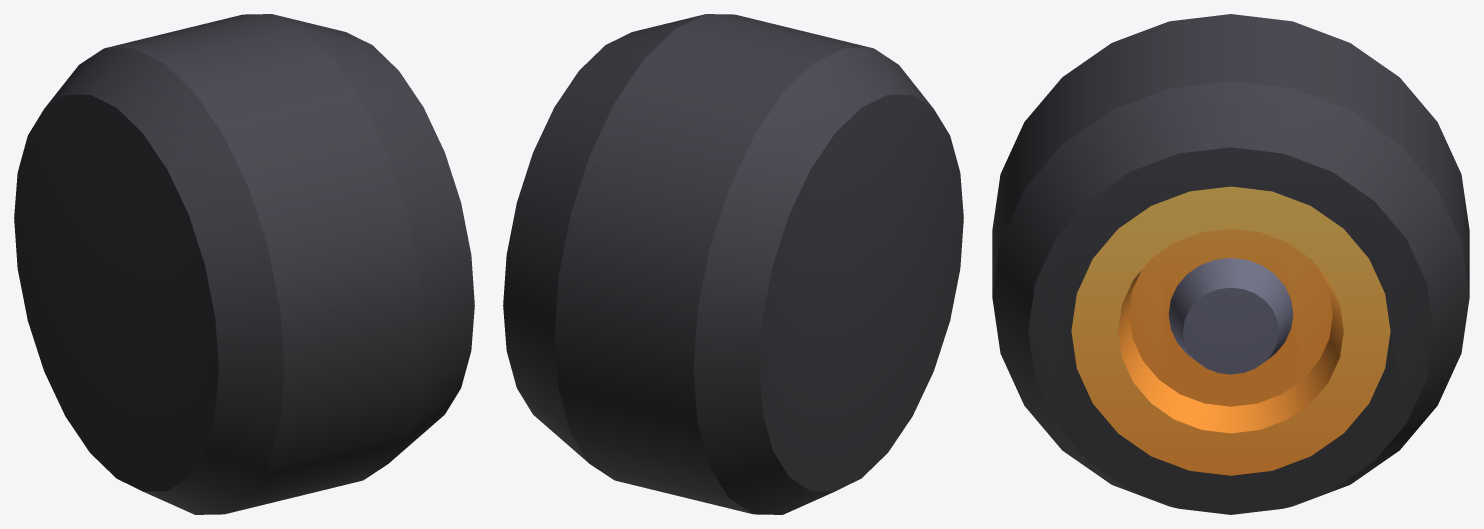
Rendered from wheel-tractor-back.fbx.
3 views of the same model, side by side, from view 1: azimuth 30°, elevation 25°; view 2: azimuth 150°, elevation 25°; view 3: azimuth 270°, elevation 25° (orthographic).
Parts seen in each view (by area): view 1: wheel-tractor-back; view 2: wheel-tractor-back; view 3: wheel-tractor-back.
Boxes of the visible parts, <box> form: wheel-tractor-back: <box>14,14,474,514</box>; wheel-tractor-back: <box>503,14,963,514</box>; wheel-tractor-back: <box>992,14,1469,514</box>.
Size of the model in its own units: 53.76 by 87.52 by 87.52.
1 material, 1 textured.
